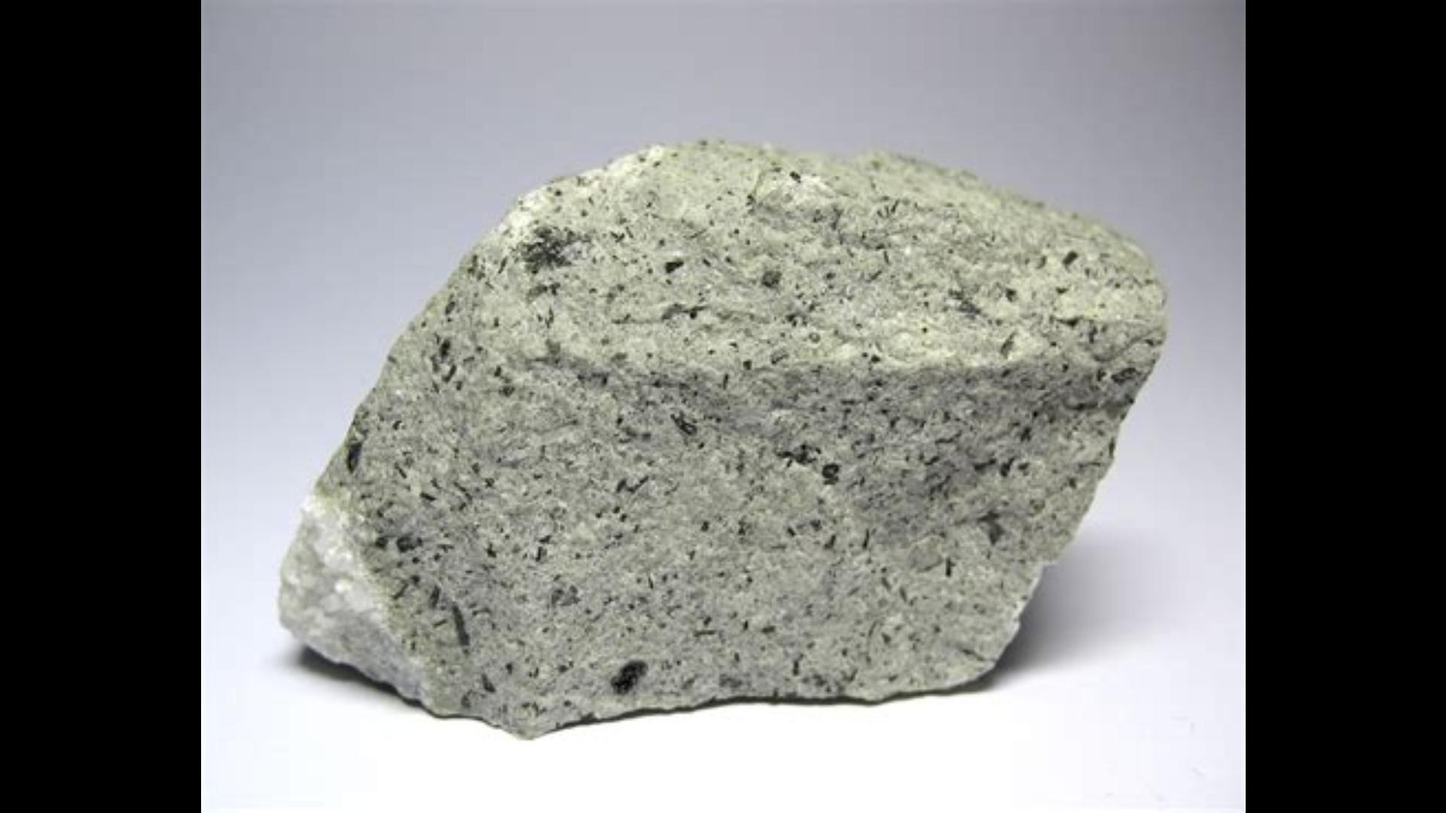rock: (282, 143, 1161, 736)
